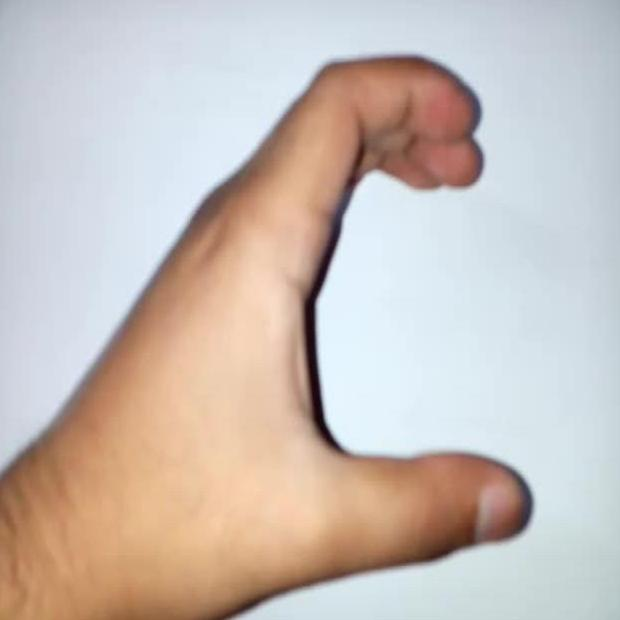B: (0, 47, 587, 620)
